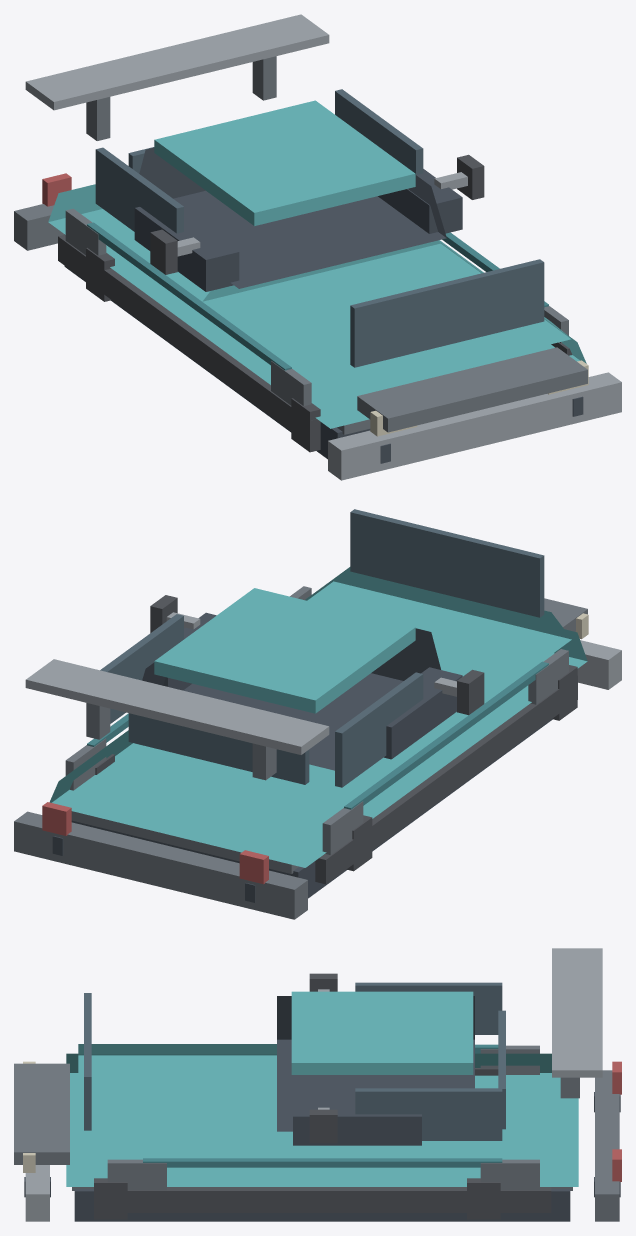
Rendered from phantom.glb.
The picture shows the model from 3 angles, top to bottom: view 1: azimuth 30°, elevation 25°; view 2: azimuth 150°, elevation 25°; view 3: azimuth 270°, elevation 25°; orthographic projection. The views are drawn at different scales.
Parts seen in each view (by area): view 1: phantom_batch01, phantom_batch00, phantom_batch05, phantom_batch08, phantom_batch02, phantom_batch03, phantom_batch04, phantom_batch07; view 2: phantom_batch01, phantom_batch08, phantom_batch02, phantom_batch05, phantom_batch00, phantom_batch03, phantom_batch04, phantom_batch07; view 3: phantom_batch01, phantom_batch00, phantom_batch03, phantom_batch02, phantom_batch08, phantom_batch05, phantom_batch04, phantom_batch07.
Boxes of the visible parts, x1=… form: phantom_batch01: x1=48, y1=100, x2=586, y2=428; phantom_batch00: x1=64, y1=147, x2=583, y2=463; phantom_batch05: x1=25, y1=14, x2=621, y2=480; phantom_batch08: x1=95, y1=89, x2=544, y2=367; phantom_batch02: x1=14, y1=56, x2=587, y2=434; phantom_batch03: x1=58, y1=154, x2=572, y2=452; phantom_batch04: x1=87, y1=222, x2=548, y2=370; phantom_batch07: x1=42, y1=173, x2=71, y2=206; phantom_batch01: x1=50, y1=567, x2=587, y2=867; phantom_batch08: x1=100, y1=509, x2=544, y2=787; phantom_batch02: x1=14, y1=586, x2=587, y2=919; phantom_batch05: x1=25, y1=612, x2=621, y2=754; phantom_batch00: x1=52, y1=612, x2=552, y2=902; phantom_batch03: x1=95, y1=595, x2=577, y2=884; phantom_batch04: x1=87, y1=661, x2=548, y2=809; phantom_batch07: x1=42, y1=802, x2=268, y2=884; phantom_batch01: x1=66, y1=991, x2=578, y2=1186; phantom_batch00: x1=24, y1=996, x2=620, y2=1221; phantom_batch03: x1=94, y1=973, x2=551, y2=1219; phantom_batch02: x1=14, y1=1045, x2=619, y2=1221; phantom_batch08: x1=84, y1=982, x2=505, y2=1140; phantom_batch05: x1=25, y1=948, x2=602, y2=1221; phantom_batch04: x1=143, y1=1044, x2=502, y2=1167; phantom_batch07: x1=612, y1=1061, x2=621, y2=1181.
Bounding box in the file's own units: 4.78 × 2.54 × 8.71.
